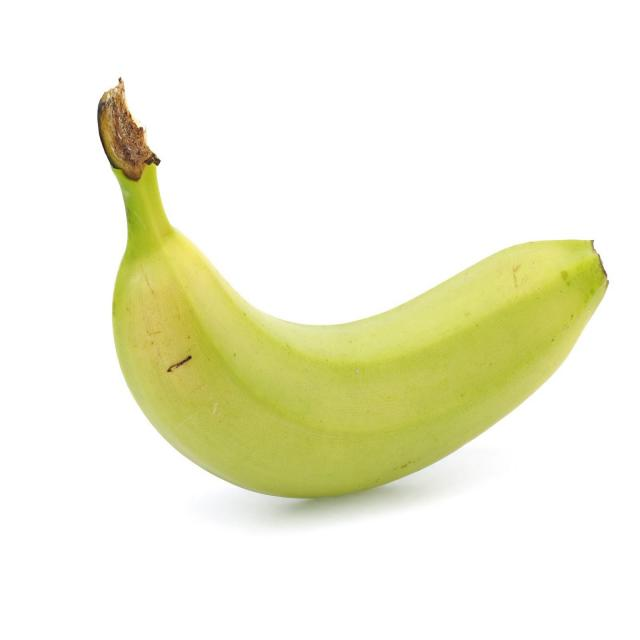Banana: (96, 79, 615, 500)
